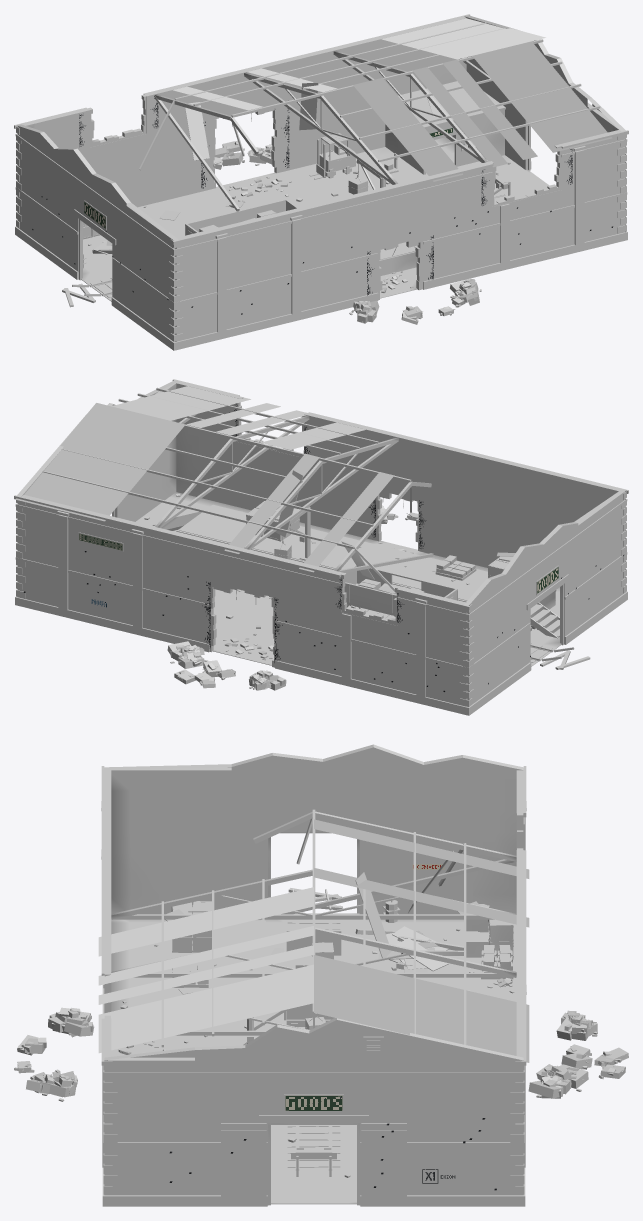
The model's file is depot.glb.
The picture shows the model from 3 angles, top to bottom: view 1: azimuth 30°, elevation 25°; view 2: azimuth 150°, elevation 25°; view 3: azimuth 270°, elevation 25°; orthographic projection. The views are drawn at different scales.
Visible parts, largest first — view 1: depot; view 2: depot; view 3: depot.
Part boxes in pixels (x1,y1,x2,y2): depot: (14, 14, 628, 350); depot: (14, 379, 628, 715); depot: (14, 744, 628, 1206).
Size of the model in its own units: 32.73 by 9.55 by 26.86.
4 materials, 3 textured.
